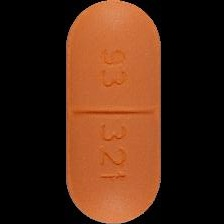33261-951: (0, 0, 224, 224)
